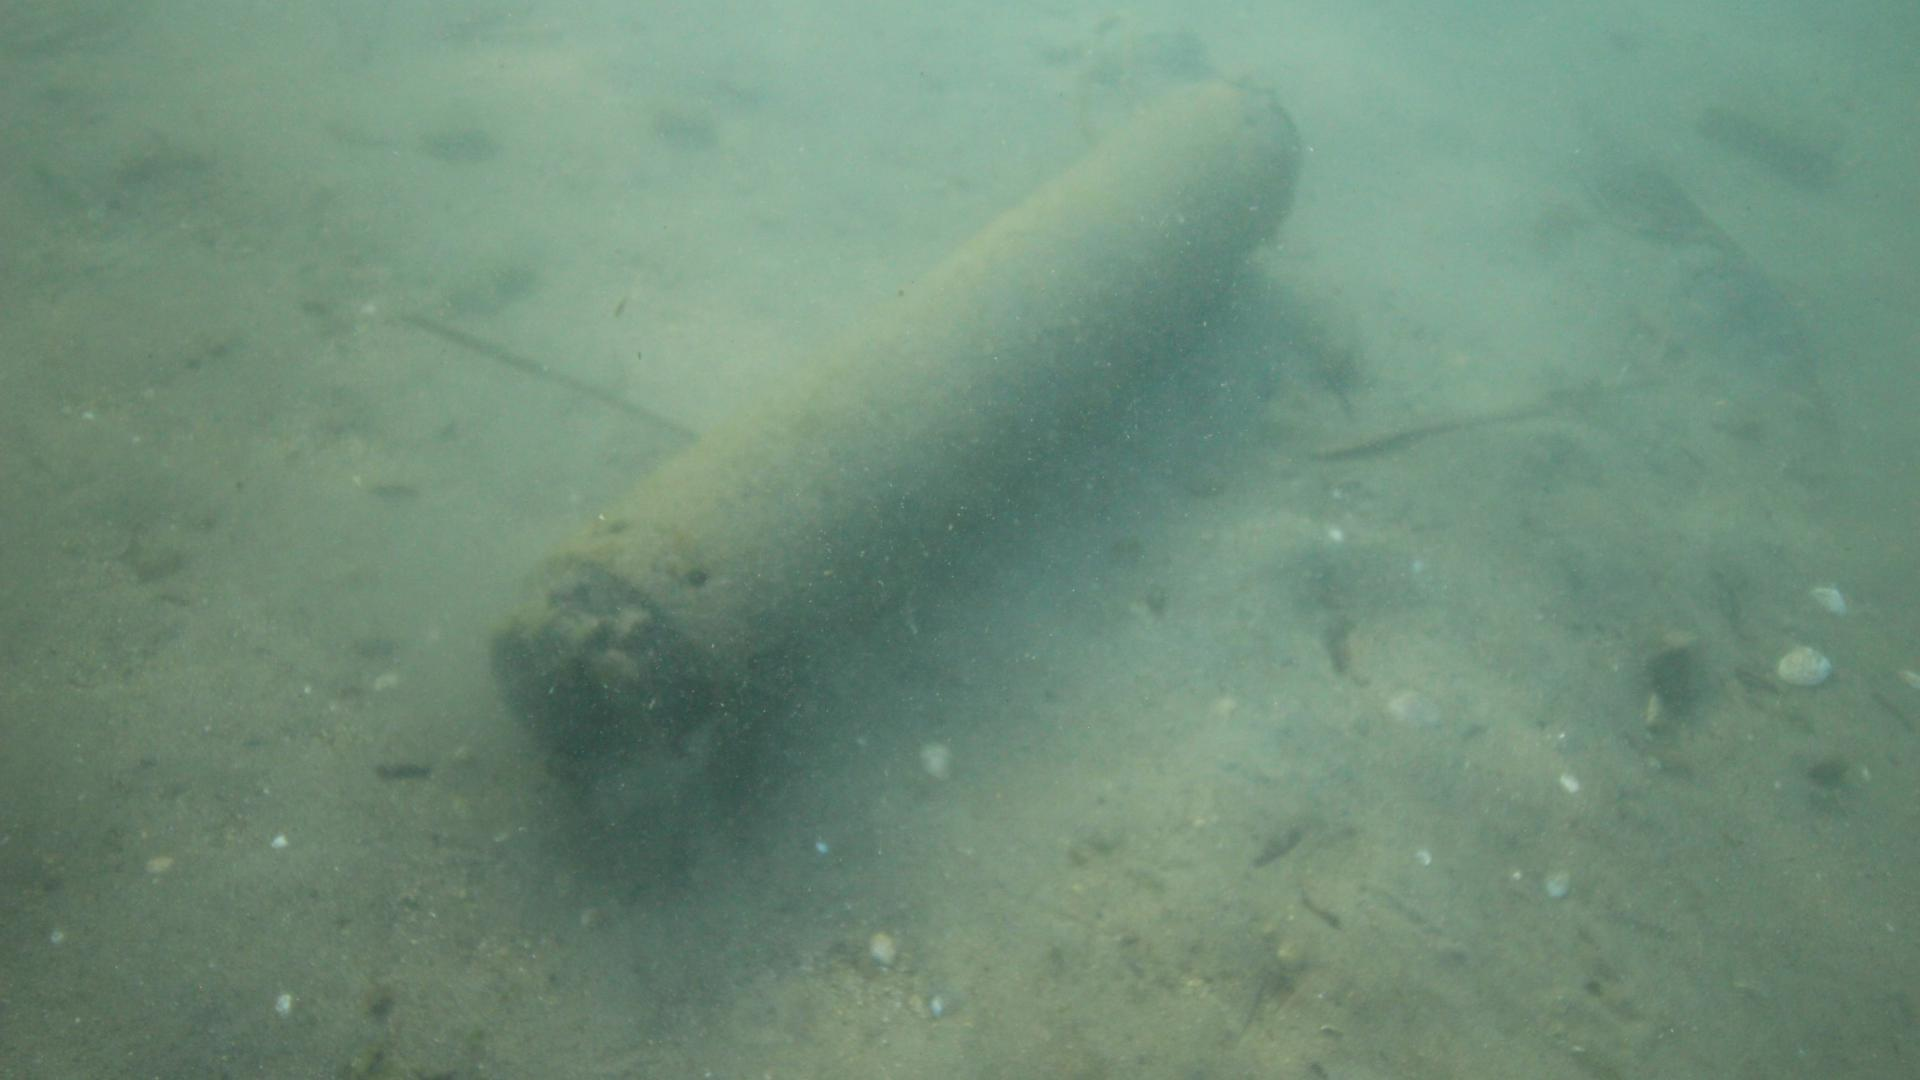eel fish trap: (487, 76, 1300, 786)
